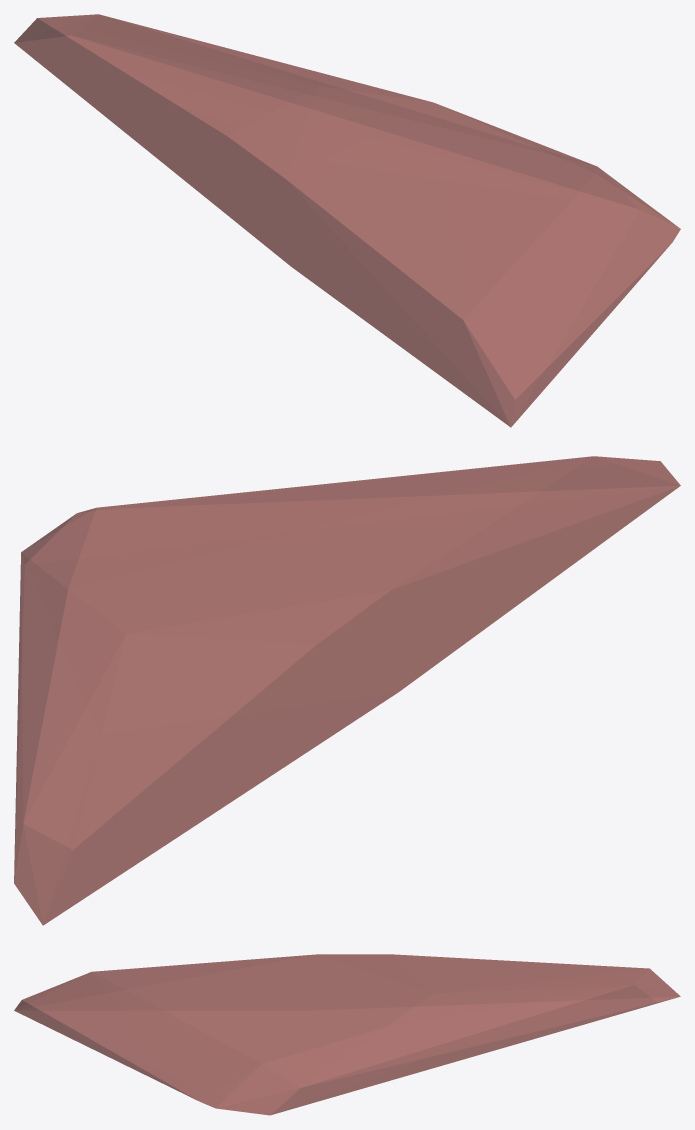
3 renders of one model, top to bottom at view 1: azimuth 30°, elevation 25°; view 2: azimuth 150°, elevation 25°; view 3: azimuth 270°, elevation 25°, orthographic. The views are drawn at different scales.
Parts seen in each view (by area): view 1: Shape_IndexedFaceSet.046_Shape_IndexedFaceSet.5485; view 2: Shape_IndexedFaceSet.046_Shape_IndexedFaceSet.5485; view 3: Shape_IndexedFaceSet.046_Shape_IndexedFaceSet.5485.
Boxes of the visible parts, x1=… form: Shape_IndexedFaceSet.046_Shape_IndexedFaceSet.5485: x1=14, y1=14, x2=680, y2=427; Shape_IndexedFaceSet.046_Shape_IndexedFaceSet.5485: x1=14, y1=456, x2=680, y2=925; Shape_IndexedFaceSet.046_Shape_IndexedFaceSet.5485: x1=14, y1=954, x2=680, y2=1115.
Bounding box in the file's own units: 0.0144 × 0.0036 × 0.0387.
